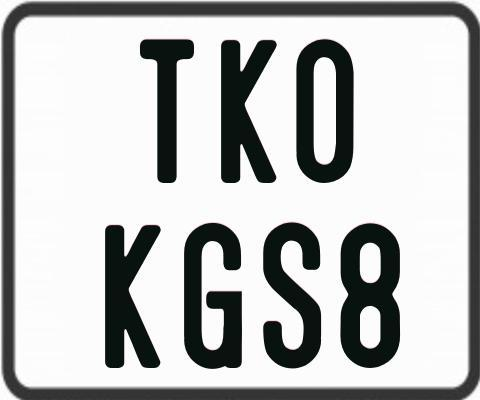0: (293, 39, 357, 188)
8: (339, 220, 399, 369)
G: (184, 221, 243, 369)
K: (219, 39, 277, 183), (102, 222, 158, 365)
S: (260, 219, 320, 371)
T: (139, 38, 195, 187)
